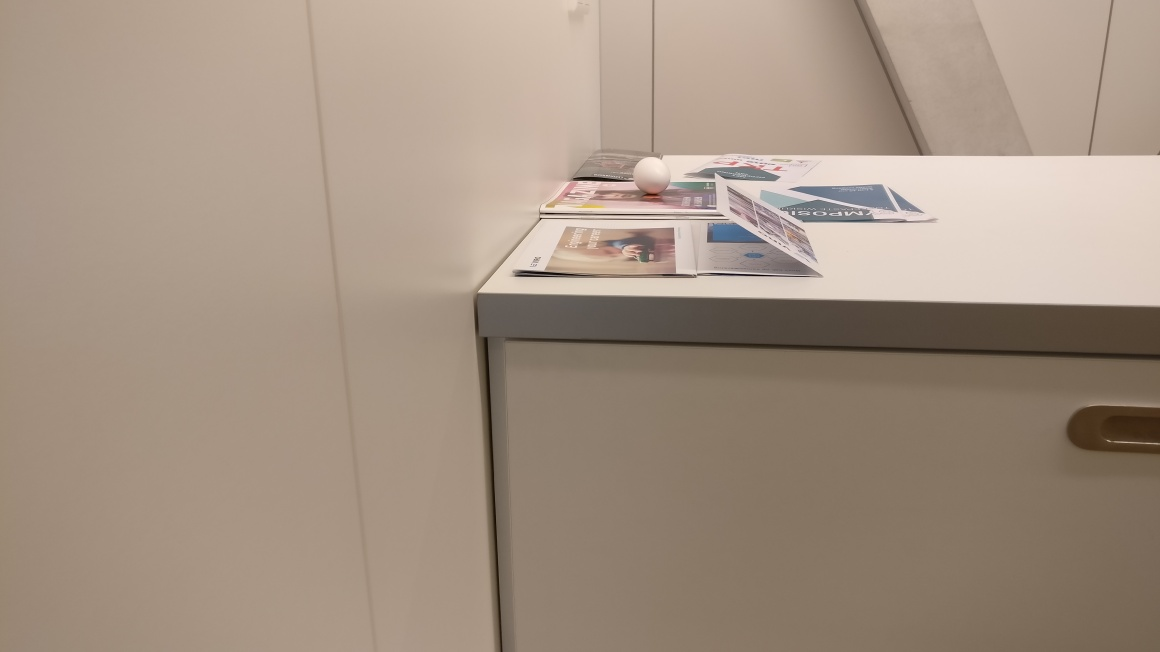egg: (632, 155, 670, 193)
